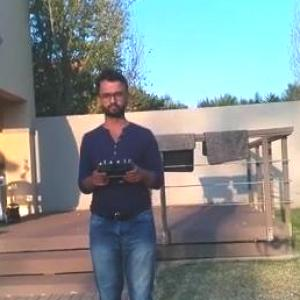follow: (73, 60, 172, 299)
